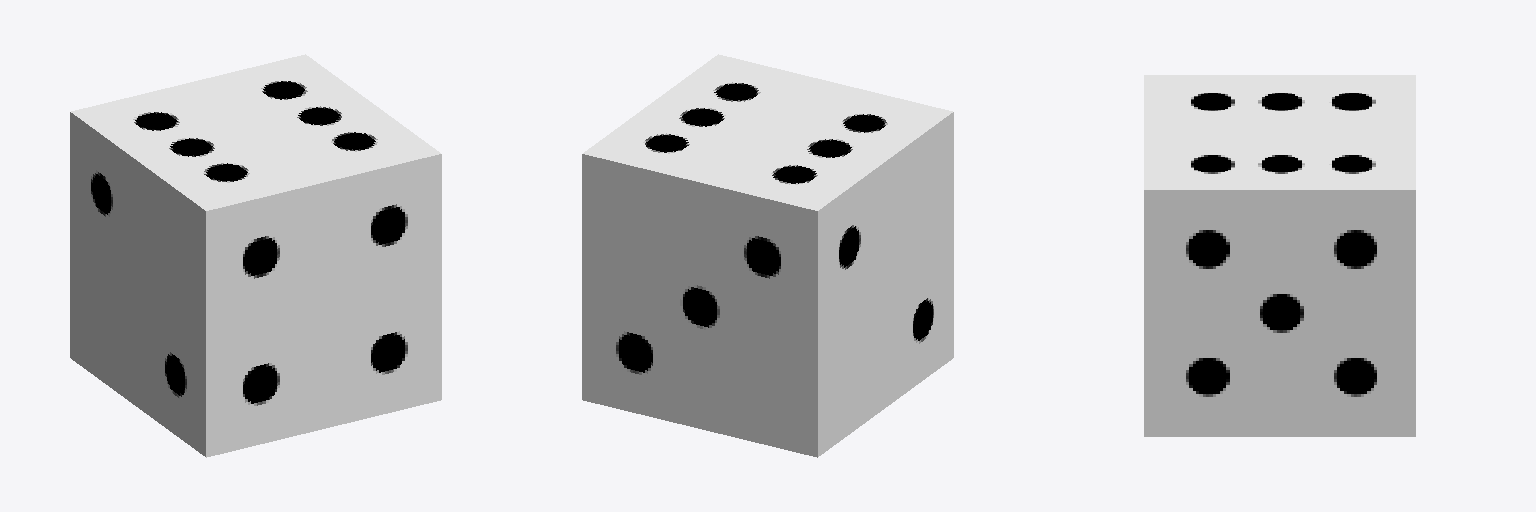
The picture shows the model from 3 angles: view 1: azimuth 30°, elevation 25°; view 2: azimuth 150°, elevation 25°; view 3: azimuth 270°, elevation 25°; orthographic projection.
Parts seen in each view (by area): view 1: dice; view 2: dice; view 3: dice.
Part boxes in pixels (bbox=[...]): dice: bbox=[70, 54, 441, 457]; dice: bbox=[582, 54, 953, 457]; dice: bbox=[1144, 75, 1415, 436].
Size of the model in its own units: 0.005 by 0.005 by 0.005.
Materials: 1 (1 with a texture image).